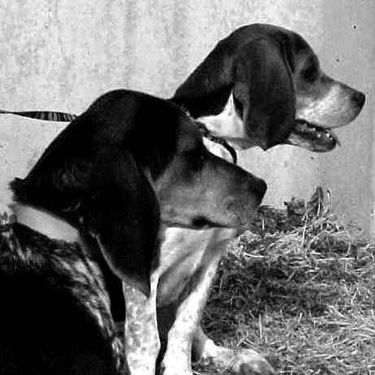dog: (83, 16, 368, 372), (1, 77, 274, 371)
